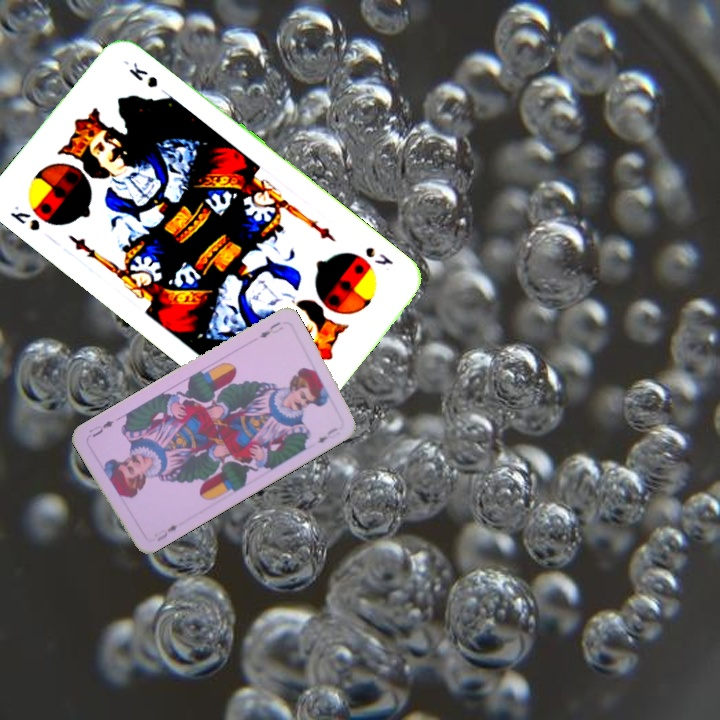EU: (255, 318, 286, 341), (153, 520, 181, 544)
SK: (5, 201, 43, 234), (361, 242, 396, 268)
